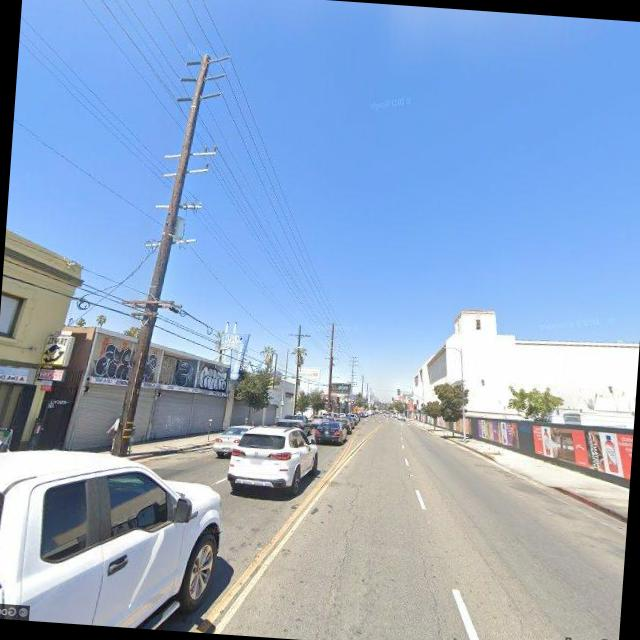pothole: (325, 478, 367, 608)
